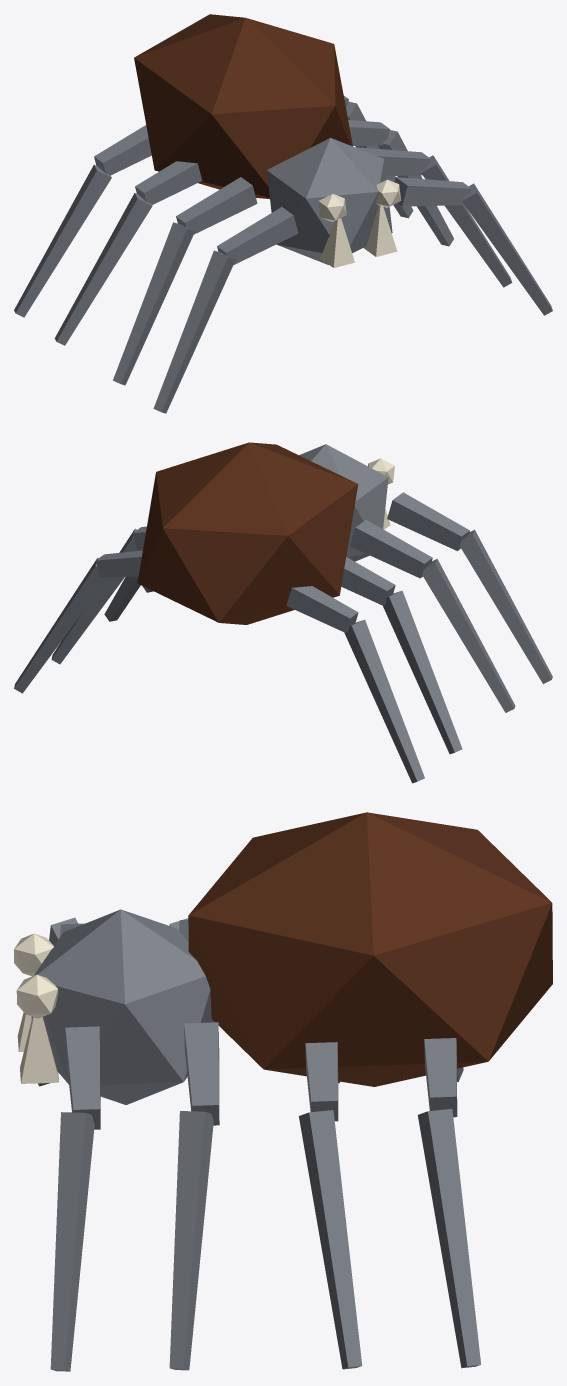
The model's file is npcpose_spider_idle_03.glb.
The picture shows the model from 3 angles, top to bottom: view 1: azimuth 30°, elevation 25°; view 2: azimuth 150°, elevation 25°; view 3: azimuth 270°, elevation 25°; orthographic projection. The views are drawn at different scales.
Visible parts, largest first — view 1: npcpose; view 2: npcpose; view 3: npcpose.
Part boxes in pixels (box(x1,y1,x2,y2)): npcpose: box(14, 14, 552, 413); npcpose: box(14, 442, 552, 783); npcpose: box(14, 812, 552, 1371).
Bounding box in the file's own units: 1.33 × 0.8433 × 0.9969.
